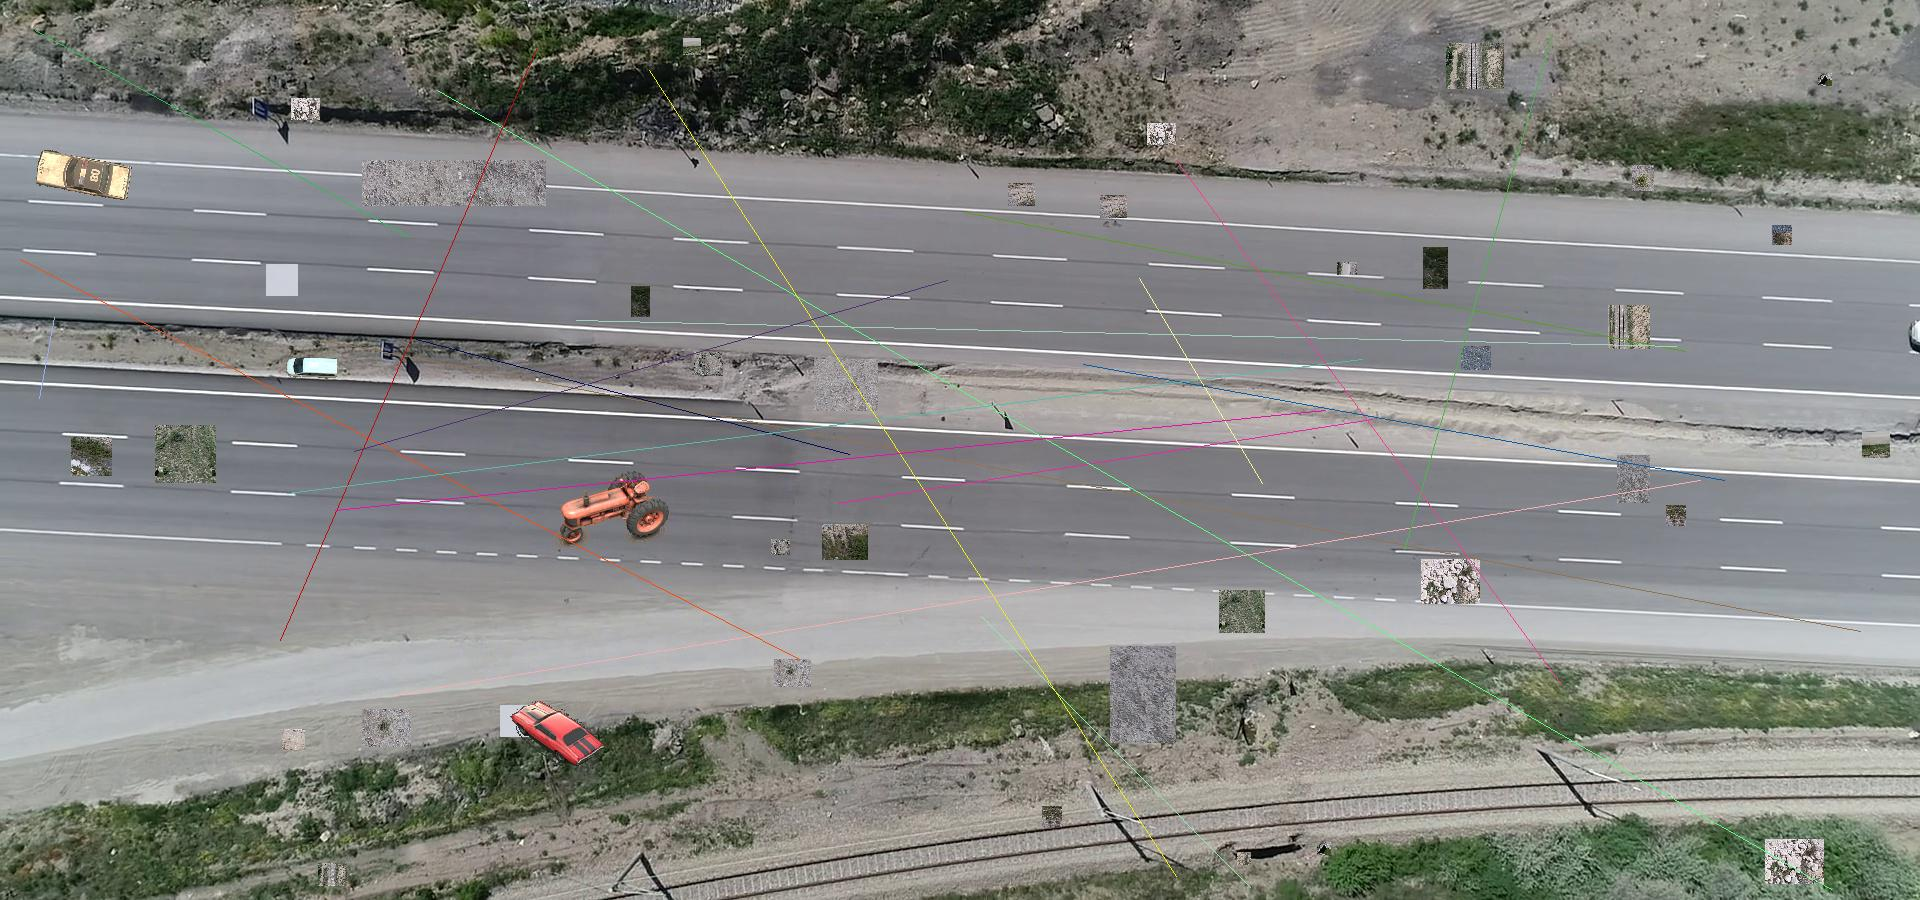arac: (553, 470, 673, 549), (509, 698, 606, 767), (36, 148, 132, 200), (285, 356, 340, 380)
